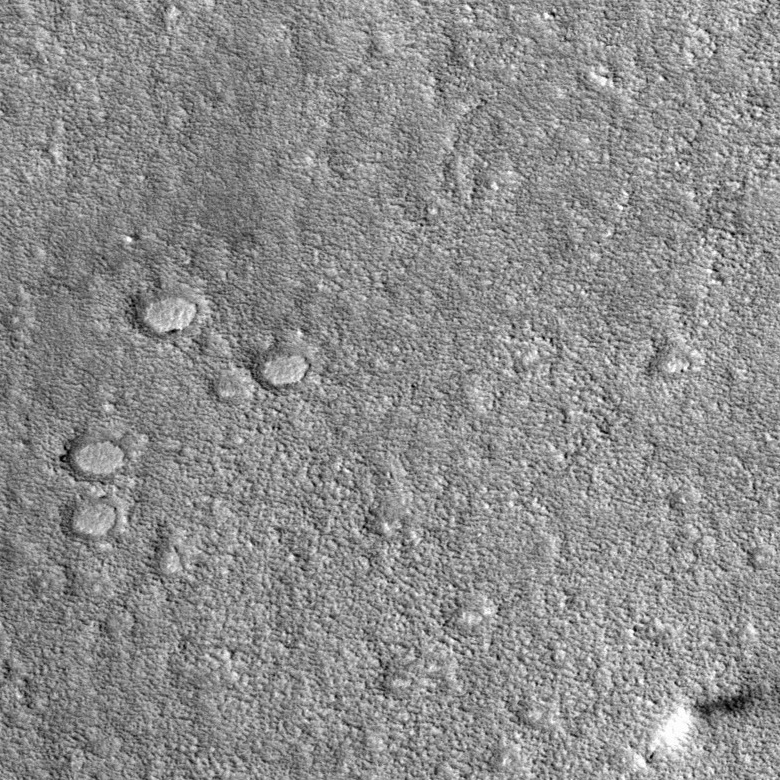dust_devil: (643, 684, 768, 762)
